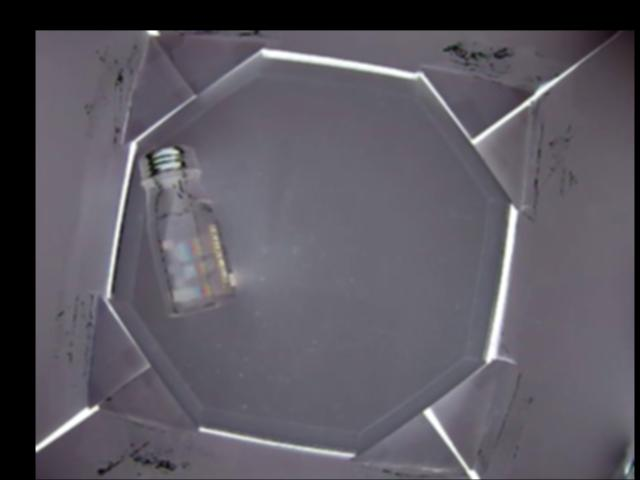Bottle: (137, 145, 238, 317)
